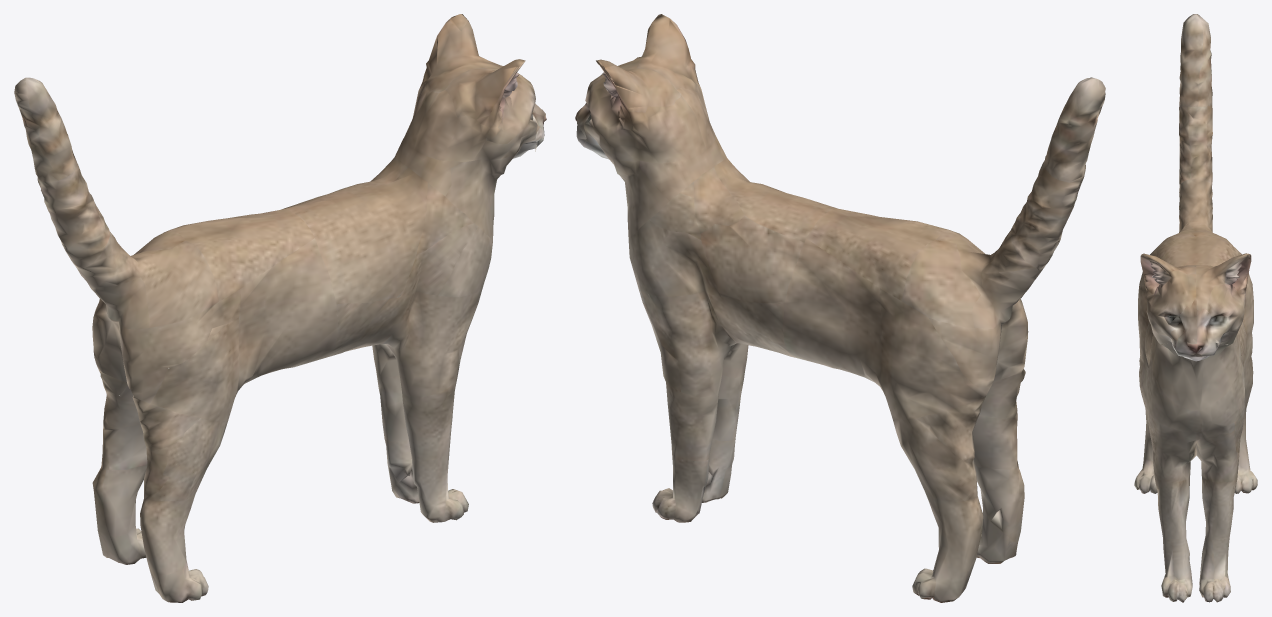
File: FUTABACAT-lo.glb
The picture shows the model from 3 angles, left to right: view 1: azimuth 30°, elevation 25°; view 2: azimuth 150°, elevation 25°; view 3: azimuth 270°, elevation 25°; orthographic projection. The views are drawn at different scales.
Visible parts, largest first — view 1: tripo_node_a5c83997-3673-43f0-a275-223939f38450; view 2: tripo_node_a5c83997-3673-43f0-a275-223939f38450; view 3: tripo_node_a5c83997-3673-43f0-a275-223939f38450.
Part boxes in pixels (x1=…): tripo_node_a5c83997-3673-43f0-a275-223939f38450: x1=14, y1=14, x2=546, y2=602; tripo_node_a5c83997-3673-43f0-a275-223939f38450: x1=575, y1=14, x2=1105, y2=602; tripo_node_a5c83997-3673-43f0-a275-223939f38450: x1=1134, y1=14, x2=1257, y2=602.
Size of the model in its own units: 1.04 by 0.9987 by 0.2637.
1 material, 1 textured.
